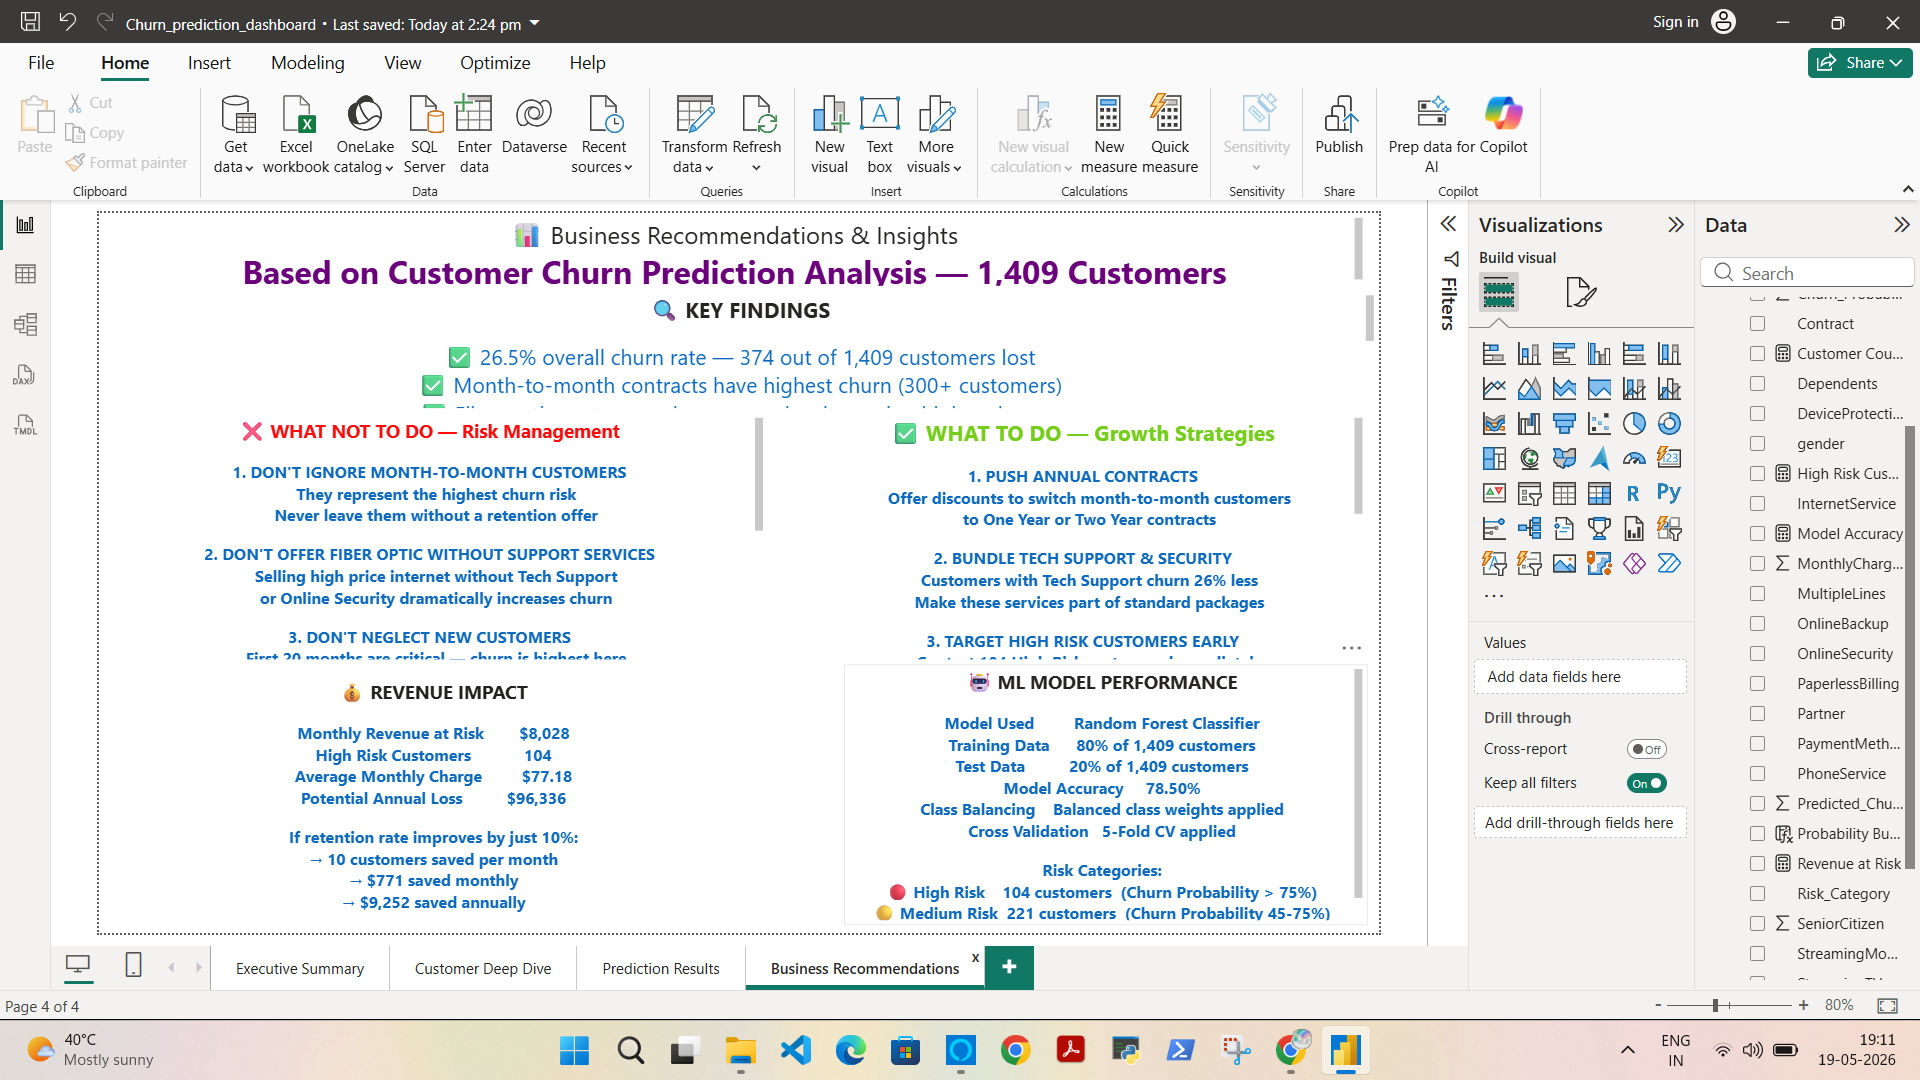

The page's visual inventory and layout, read from the dashboard file:
{"tool":"powerbi","page":{"name":"Business Recommendations","canvas":[1280,720],"ordinal":3},"visuals":[{"type":"textbox","box":[10,0,1258.8,77.5],"z":0},{"type":"textbox","box":[10,77.5,1270,122.5],"z":1},{"type":"textbox","box":[707.5,200,561.2,251.2],"z":2},{"type":"textbox","box":[0,200,668.8,251.2],"z":3},{"type":"textbox","box":[0,461,669,251],"z":4},{"type":"textbox","box":[745,451.2,523.8,261.2],"z":5}]}

Visuals, with their boxes on the page's 1280x720 design canvas (x1, y1, x2, y2). These are canvas units, not pixel positions in the 1920x1080 screenshot, which may show the page scaled, cropped or inside an application window:
textbox: (x1=10, y1=0, x2=1269, y2=78)
textbox: (x1=10, y1=78, x2=1280, y2=200)
textbox: (x1=708, y1=200, x2=1269, y2=451)
textbox: (x1=0, y1=200, x2=669, y2=451)
textbox: (x1=0, y1=461, x2=669, y2=712)
textbox: (x1=745, y1=451, x2=1269, y2=712)
